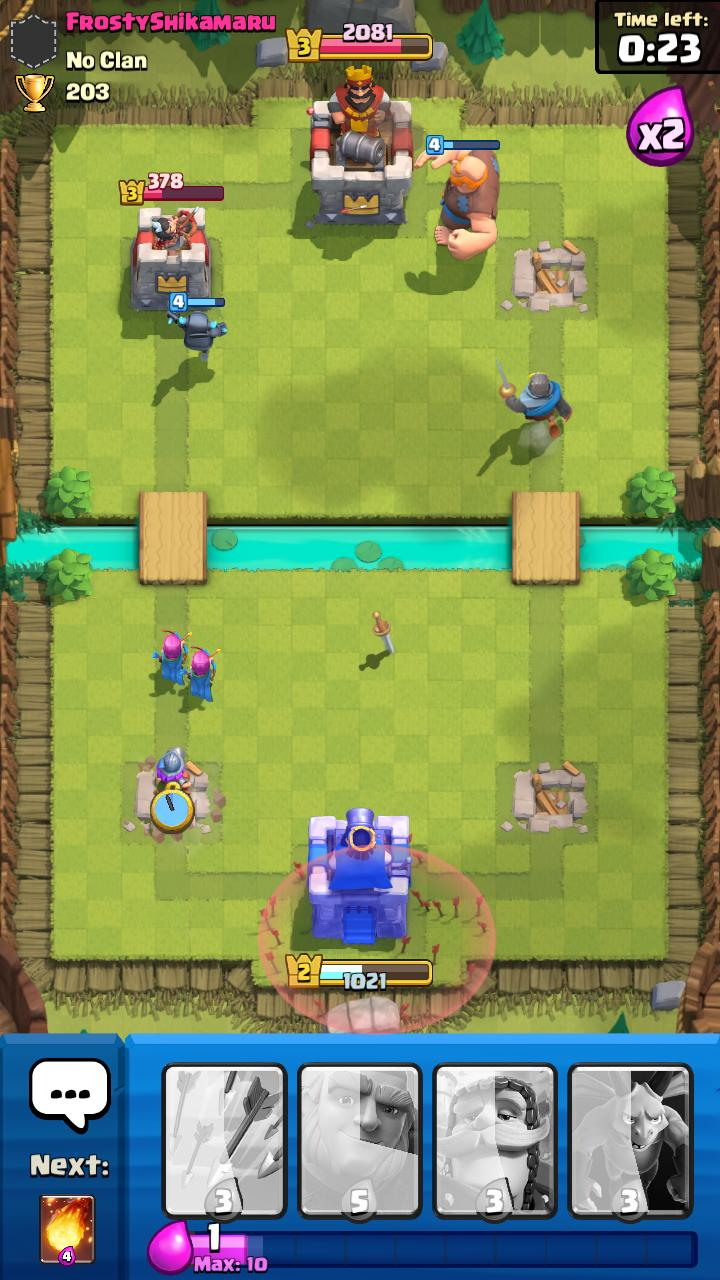ally: (416, 135, 501, 259), (496, 357, 573, 438), (170, 290, 230, 362), (180, 646, 221, 701), (152, 629, 192, 685), (153, 747, 191, 798)
